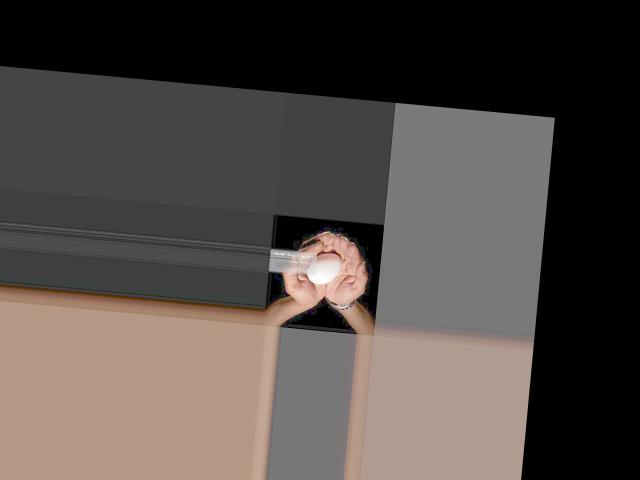egg: (307, 250, 342, 285)
